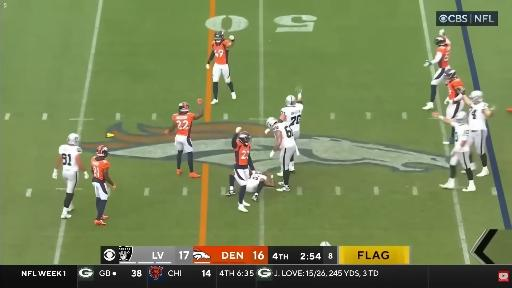Helmet: (469, 90, 483, 103), (96, 145, 108, 157), (239, 132, 250, 145), (455, 112, 467, 123), (214, 31, 224, 44), (445, 69, 456, 80), (68, 134, 79, 145), (435, 36, 446, 46), (286, 95, 296, 106), (178, 102, 189, 112), (267, 117, 277, 127), (256, 172, 262, 175)
Jersey: (281, 103, 303, 131), (59, 144, 81, 171), (273, 122, 295, 149), (452, 122, 470, 152), (469, 102, 488, 130), (173, 113, 194, 137), (91, 157, 109, 182), (234, 140, 250, 168), (212, 40, 229, 64), (437, 37, 450, 68), (247, 172, 266, 192), (448, 78, 464, 100), (251, 172, 267, 181)
Player: (432, 112, 475, 191), (165, 99, 203, 178), (53, 134, 88, 218), (464, 91, 493, 176), (206, 31, 236, 104), (423, 30, 450, 109), (267, 118, 296, 191), (91, 146, 116, 225), (232, 127, 255, 212), (279, 89, 303, 139), (445, 69, 465, 118), (246, 171, 274, 201), (507, 108, 511, 112)
